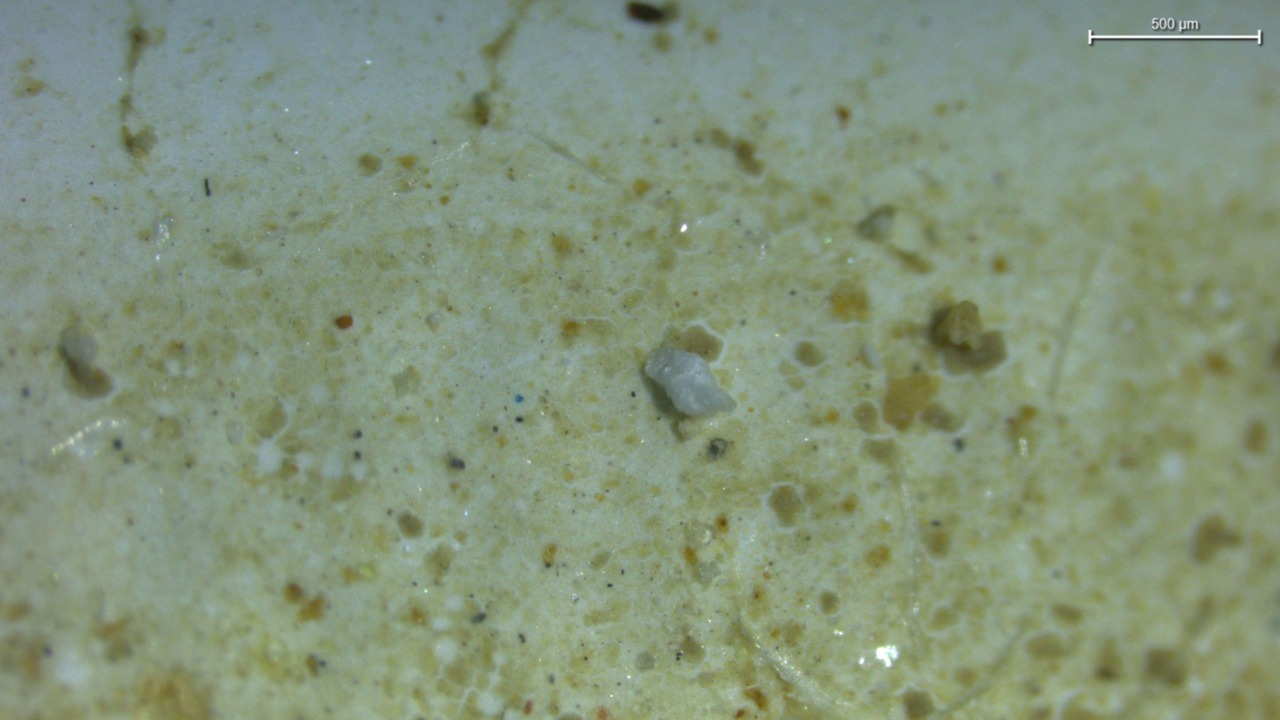microplastic_fragment: (645, 348, 734, 417), (934, 300, 983, 351)
